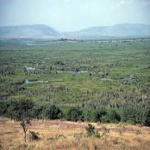Uncultivated: (11, 46, 148, 113)
